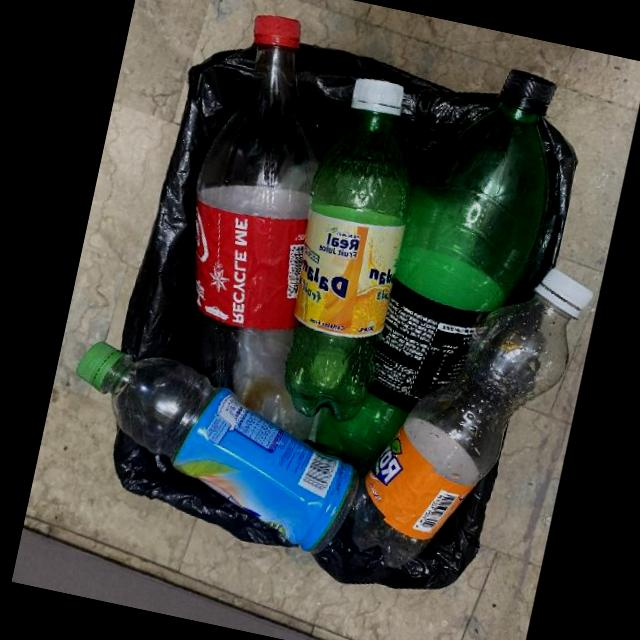chai_nhua: (315, 69, 555, 475), (284, 76, 411, 421)
chai_nhua_pet: (350, 267, 593, 567), (75, 340, 357, 551), (195, 13, 318, 441)
